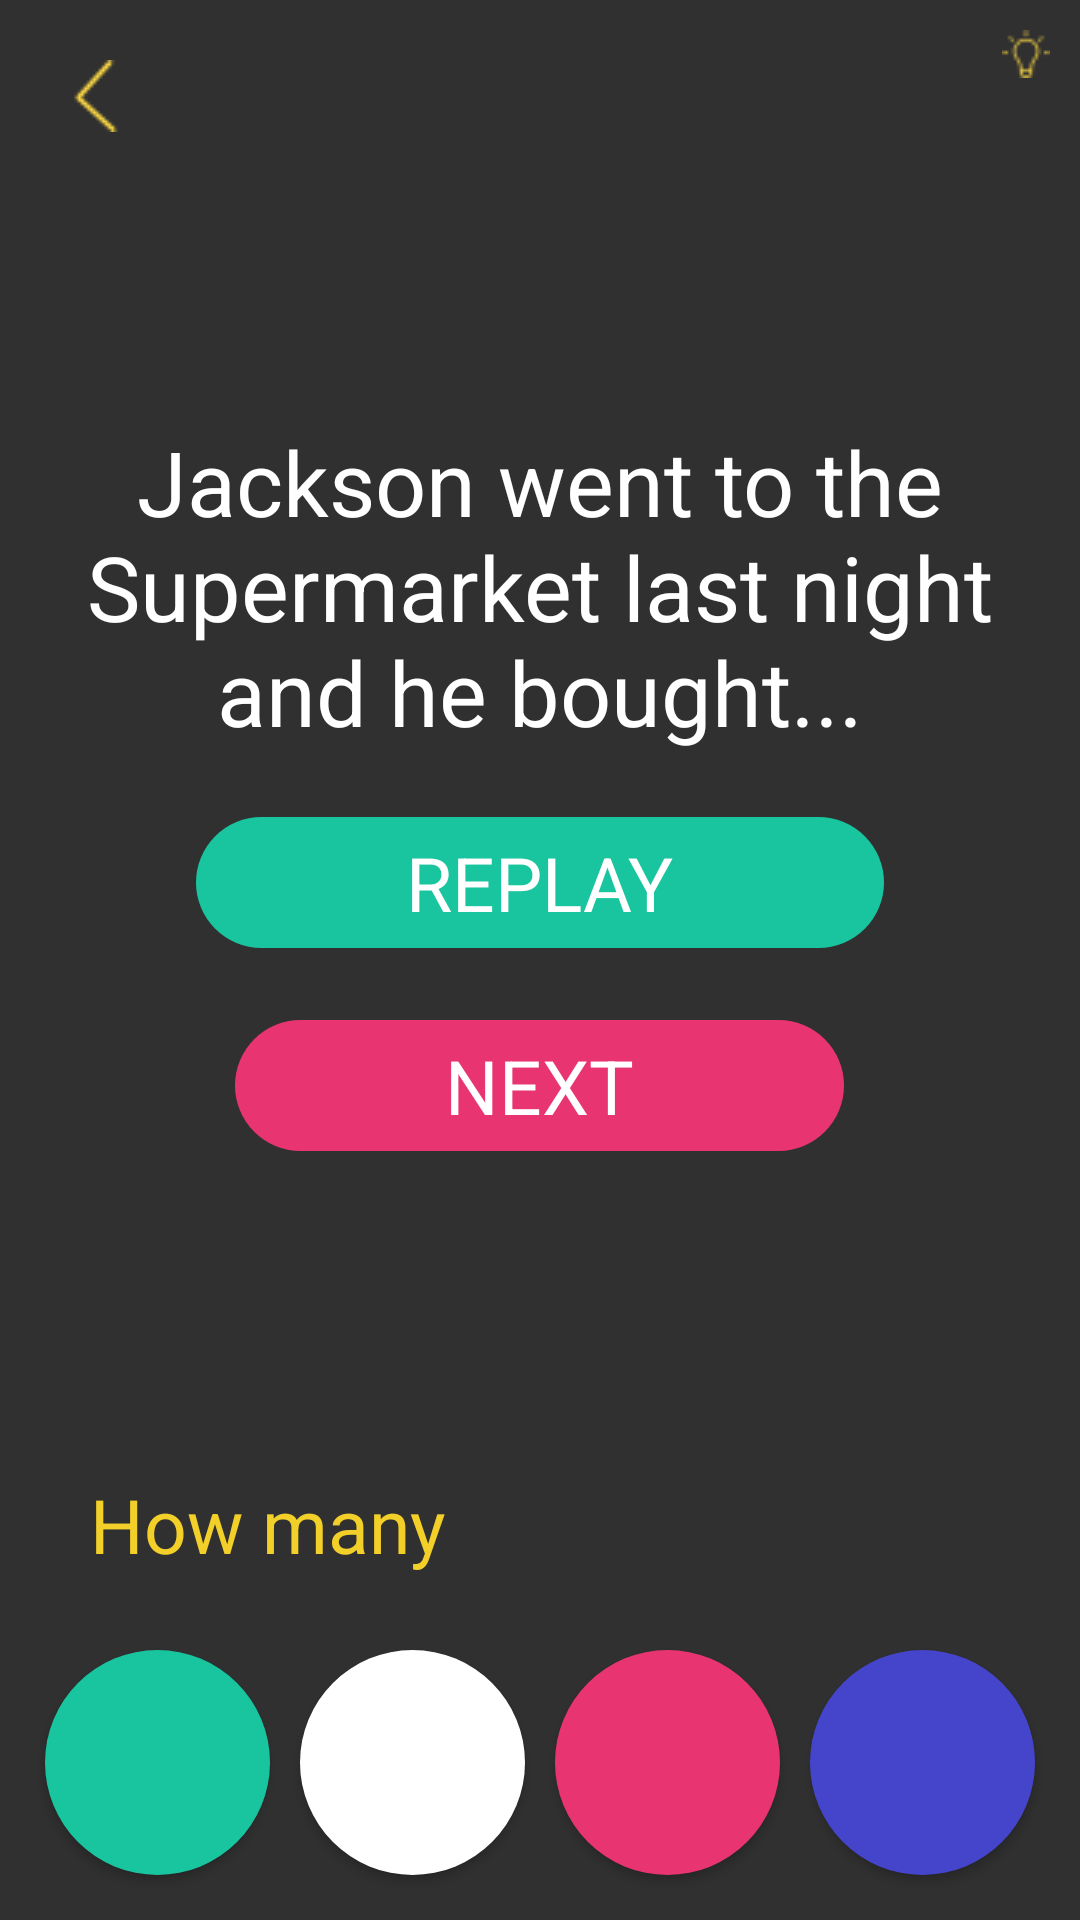

Named icons in this screenshot (1080px x 1920px) and their bounding boxes, (x1, y1, x2, y2):
arrow: (74, 60, 117, 132)
lightbulb: (1002, 30, 1050, 78)
